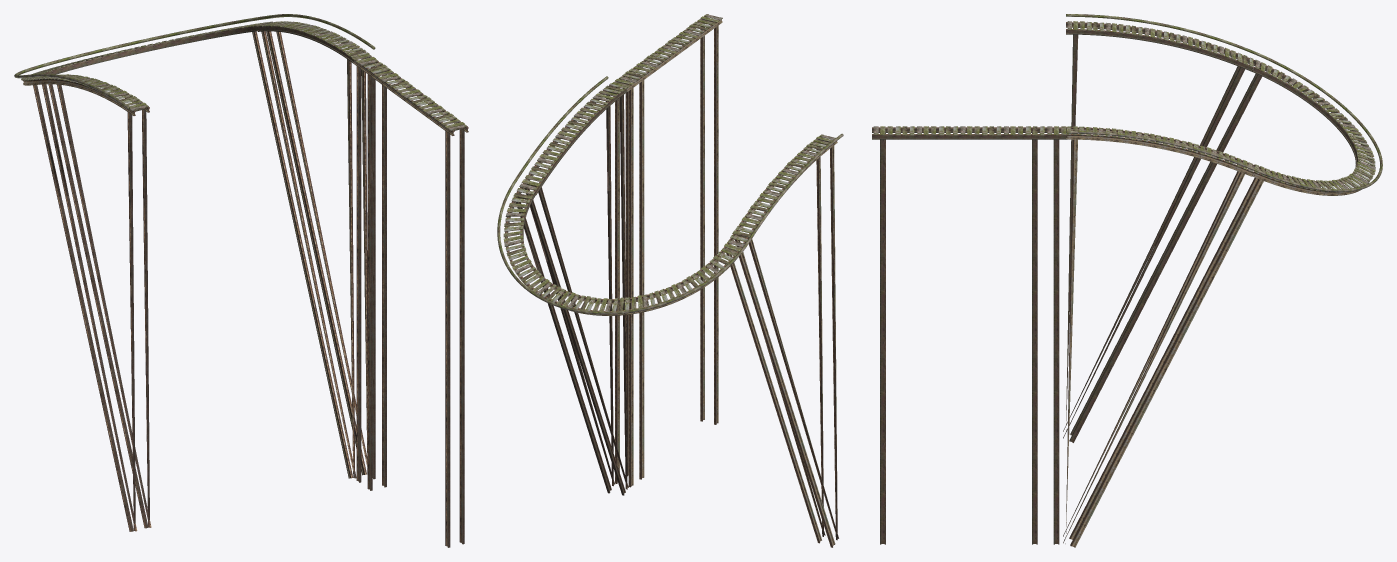
File: CROVE-RAMPS.fbx
3 views of the same model, side by side, from view 1: azimuth 30°, elevation 25°; view 2: azimuth 150°, elevation 25°; view 3: azimuth 270°, elevation 25° (orthographic). The views are drawn at different scales.
Parts seen in each view (by area): view 1: Ramp_008, Ramp_010, Ramp_011, Ramp_009, pipe_002; view 2: Ramp_008, Ramp_010, Ramp_009, Ramp_011, pipe_002; view 3: Ramp_010, Ramp_008, Ramp_011, Ramp_009, pipe_002.
Boxes of the visible parts, <box> form: Ramp_008: <box>352,54,468,547</box>; Ramp_010: <box>21,21,366,531</box>; Ramp_011: <box>37,74,151,531</box>; Ramp_009: <box>257,21,369,478</box>; pipe_002: <box>14,14,375,109</box>; Ramp_008: <box>612,14,722,487</box>; Ramp_010: <box>503,188,835,547</box>; Ramp_009: <box>519,83,628,489</box>; Ramp_011: <box>730,134,838,540</box>; pipe_002: <box>497,76,843,314</box>; Ramp_010: <box>1069,59,1375,547</box>; Ramp_008: <box>872,126,1067,544</box>; Ramp_011: <box>1063,21,1253,438</box>; Ramp_009: <box>1063,126,1253,543</box>; pipe_002: <box>1066,14,1382,192</box>.
Size of the model in its own units: 1439 by 2385 by 2630.
